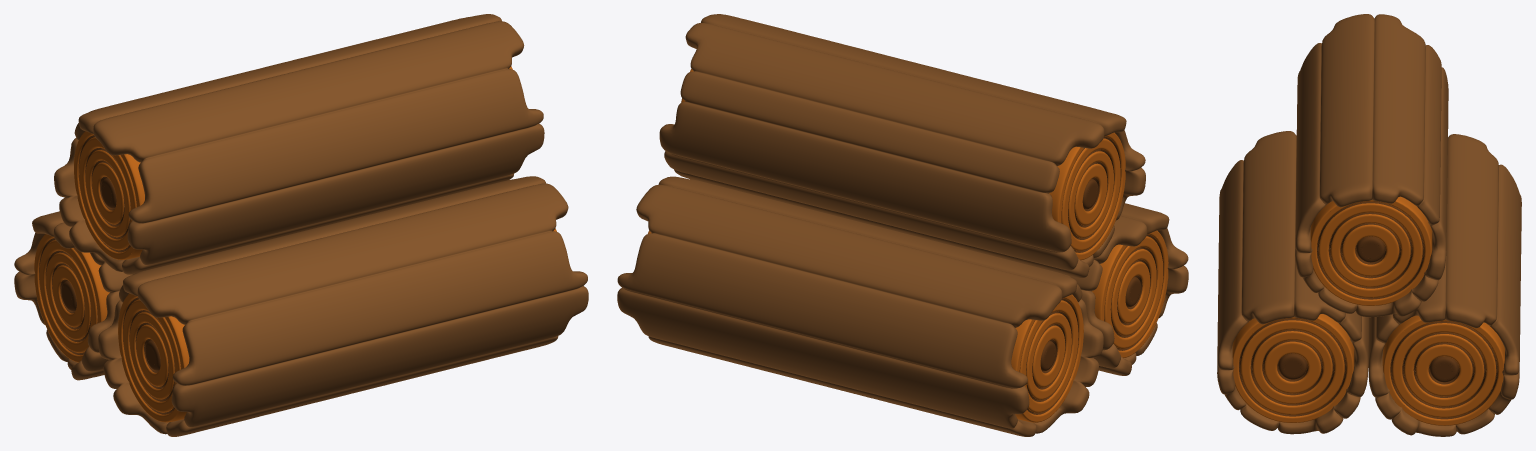
File: Wood.glb
3 renders of one model, left to right at view 1: azimuth 30°, elevation 25°; view 2: azimuth 150°, elevation 25°; view 3: azimuth 270°, elevation 25°, orthographic. The views are drawn at different scales.
Visible parts, largest first — view 1: Cylinder016, Cylinder014, Cylinder013_1, Cylinder014_1, Cylinder013_2, Cylinder014_2; view 2: Cylinder016, Cylinder014, Cylinder013_1, Cylinder014_1, Cylinder013_2, Cylinder014_2; view 3: Cylinder016, Cylinder014, Cylinder013_1, Cylinder014_1, Cylinder013_2, Cylinder014_2.
Boxes of the visible parts, x1,y1,x2,y2 form: Cylinder016: (14, 176, 588, 436); Cylinder014: (54, 14, 544, 274); Cylinder013_1: (34, 228, 556, 422); Cylinder014_1: (74, 66, 512, 259); Cylinder013_2: (39, 238, 181, 414); Cylinder014_2: (78, 135, 136, 252); Cylinder016: (617, 176, 1188, 436); Cylinder014: (659, 14, 1145, 278); Cylinder013_1: (648, 230, 1168, 422); Cylinder014_1: (681, 69, 1125, 260); Cylinder013_2: (1019, 234, 1163, 414); Cylinder014_2: (1061, 136, 1121, 252); Cylinder016: (1217, 131, 1521, 436); Cylinder014: (1295, 14, 1448, 317); Cylinder013_1: (1232, 314, 1504, 425); Cylinder014_1: (1310, 196, 1432, 305); Cylinder013_2: (1239, 318, 1497, 419); Cylinder014_2: (1317, 201, 1424, 299).
Size of the model in its own units: 1 by 0.6642 by 0.7079.
